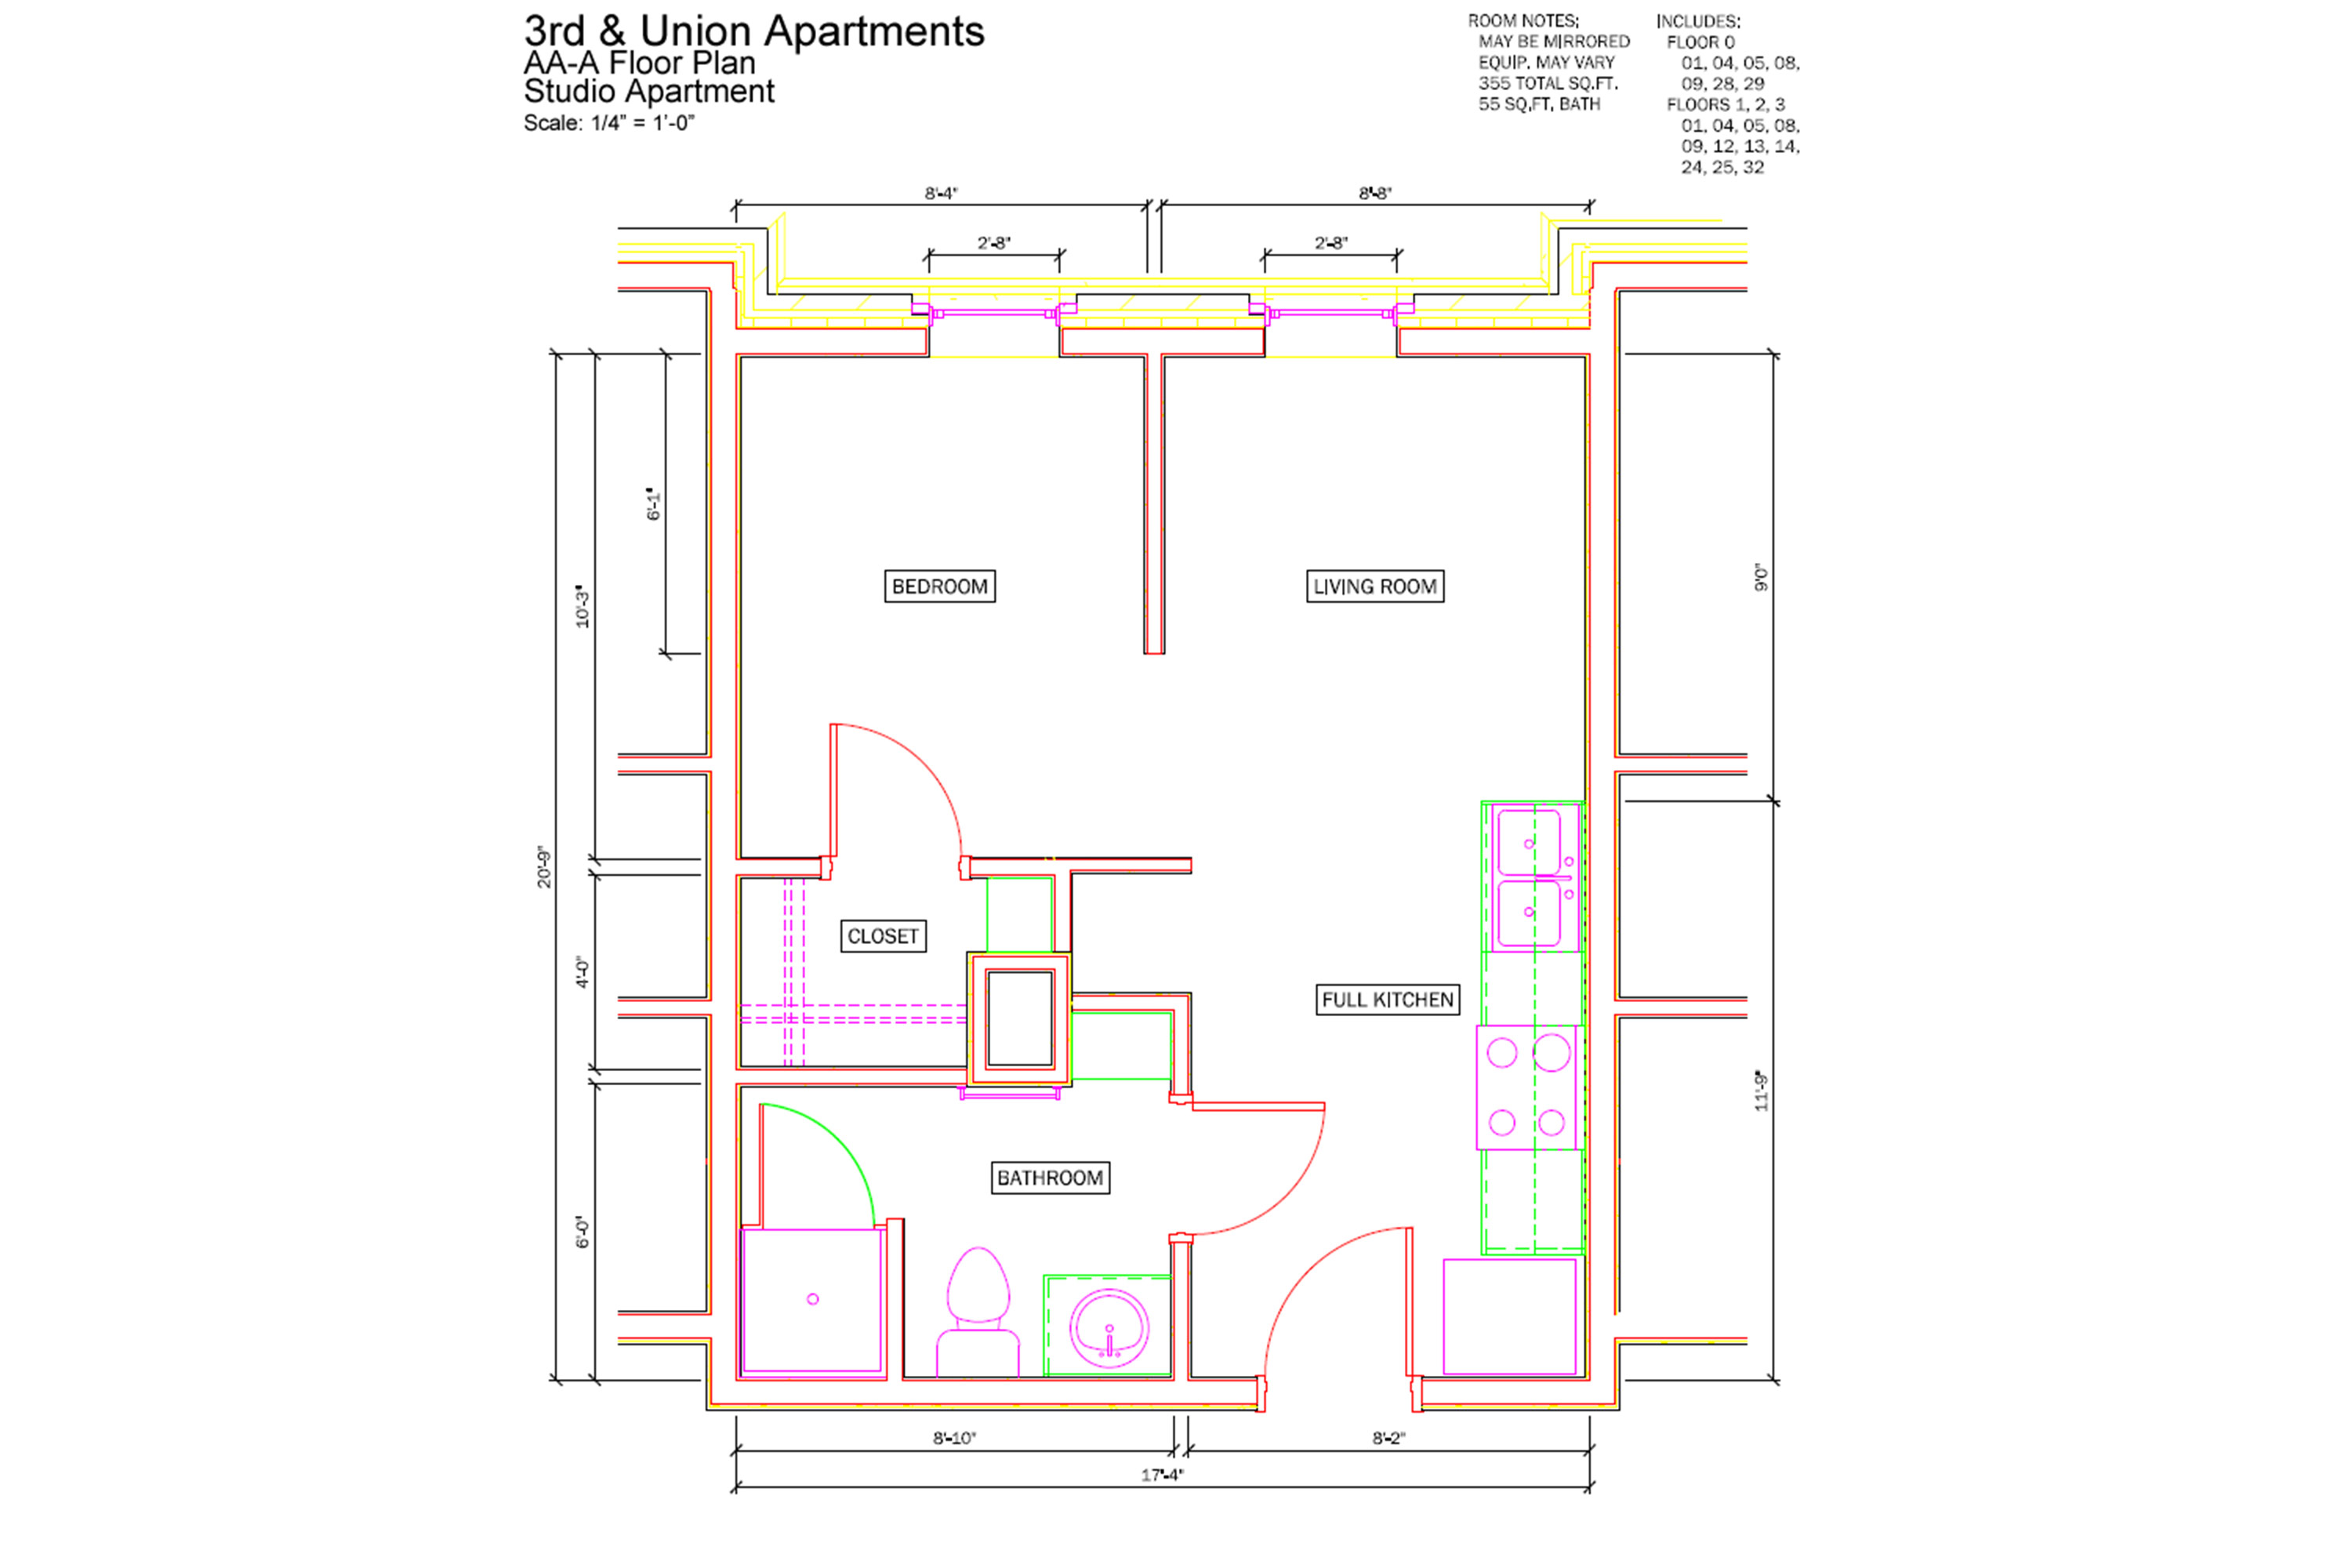room: (1146, 322, 1624, 880), (707, 327, 1181, 880), (700, 1066, 1199, 1405), (710, 852, 1172, 1097)
